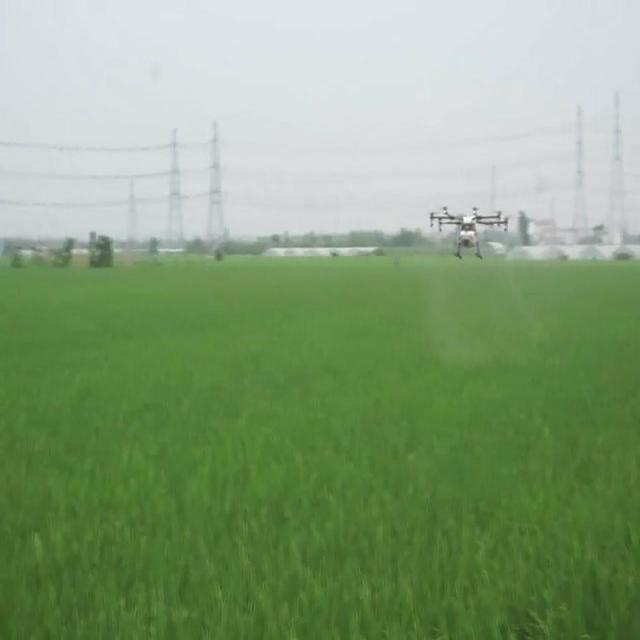drone: (427, 198, 512, 270)
